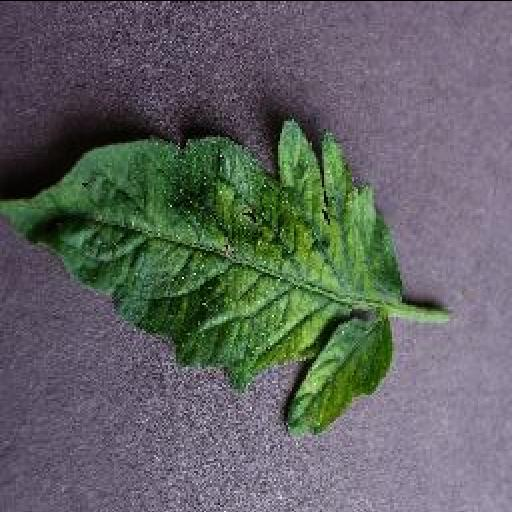disease_tomato: (0, 116, 404, 436)
